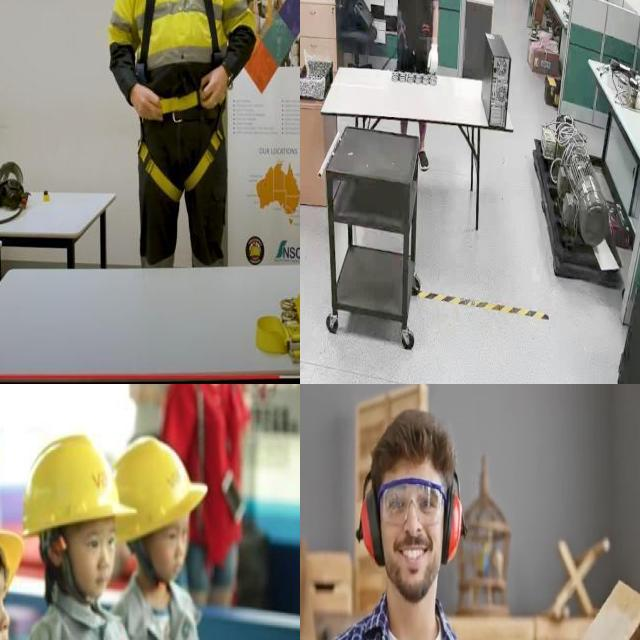Ear-protection: (353, 474, 387, 568), (444, 482, 467, 566)
Harness: (134, 0, 224, 204)
No_Ear-Protection: (44, 527, 68, 570)
No_Glasses: (76, 521, 118, 561), (0, 576, 12, 625)
glasses: (377, 478, 448, 529)
hand_glove: (427, 37, 438, 73)
person: (300, 409, 518, 640), (388, 0, 441, 78)
shoes: (416, 145, 429, 174)
